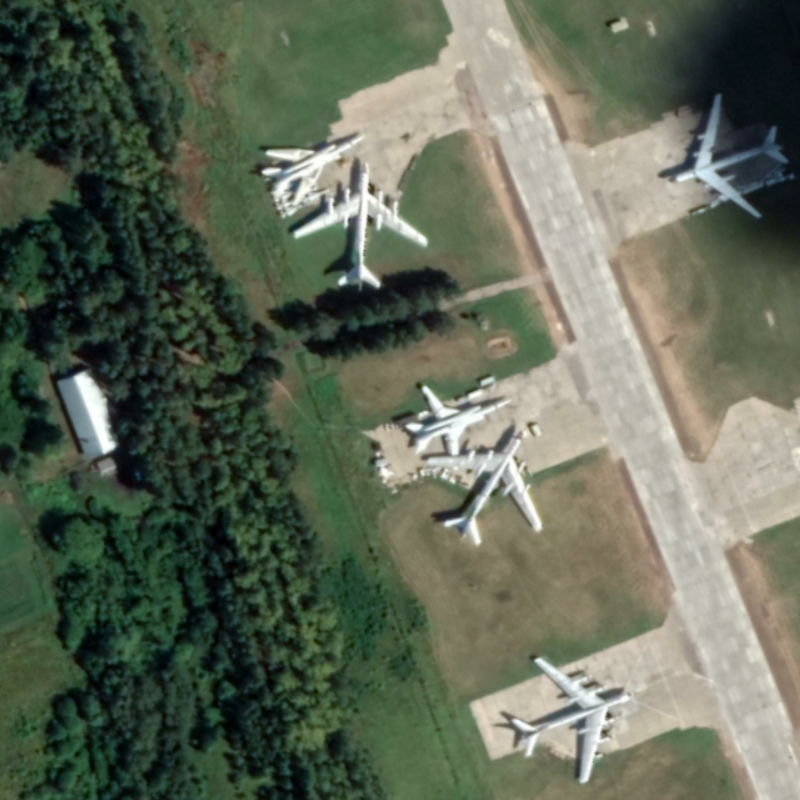A12: (402, 383, 515, 459), (259, 133, 367, 209)
A17: (291, 159, 431, 294), (508, 655, 636, 786), (669, 90, 791, 220), (424, 427, 545, 549)
